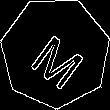M_NE: (23, 19, 88, 86)
